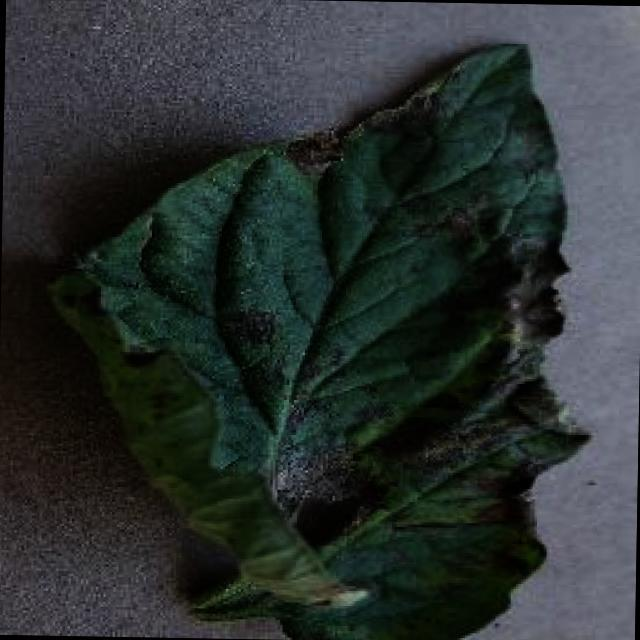Tomato Early blight leaf: (37, 32, 597, 640)
